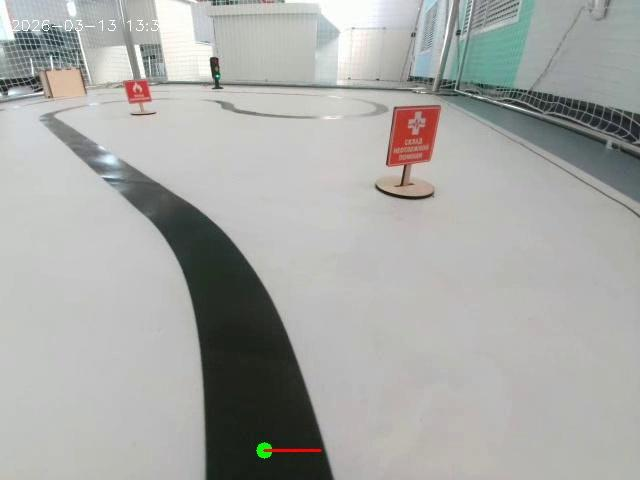fire: (114, 78, 160, 125)
medical: (366, 90, 447, 193)
